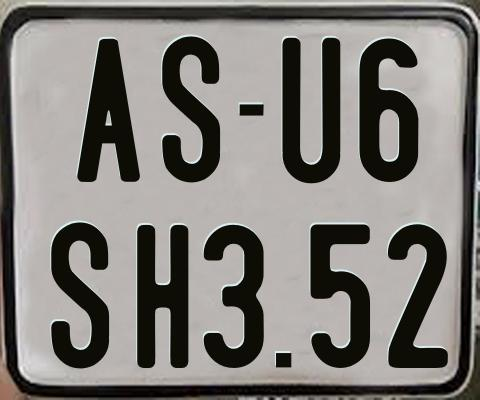2: (386, 223, 446, 372)
3: (201, 225, 265, 374)
5: (310, 221, 374, 369)
6: (358, 37, 418, 184)
A: (77, 36, 140, 181)
H: (135, 223, 187, 368)
S: (159, 36, 222, 188), (49, 219, 111, 371)
U: (279, 35, 341, 181)
